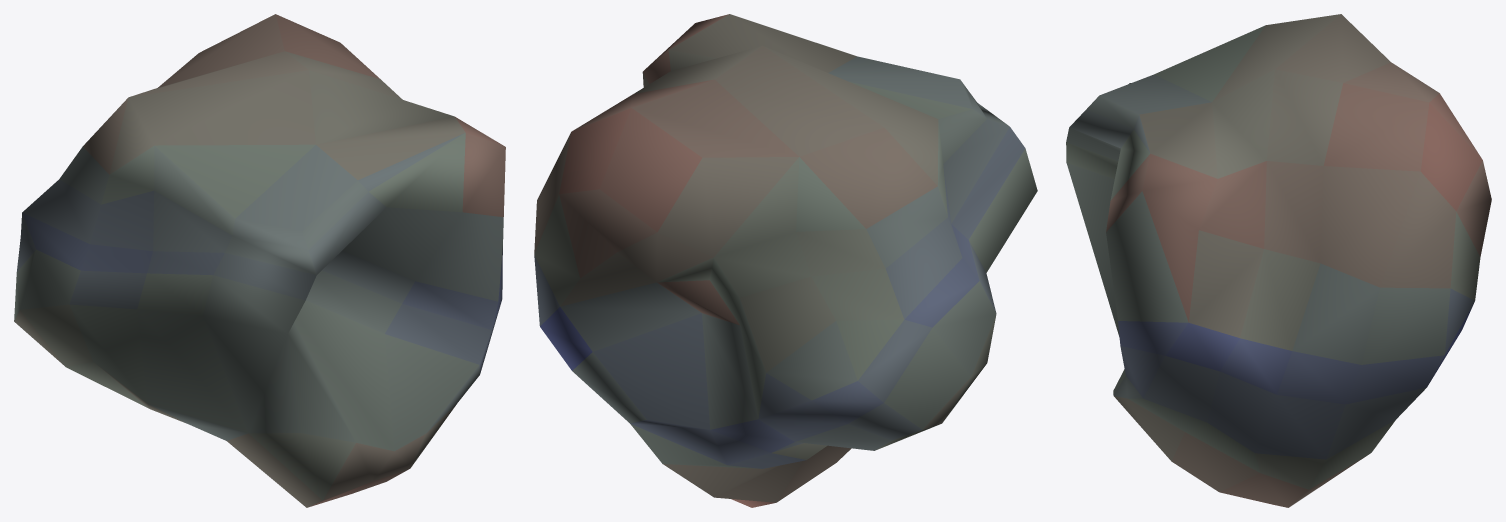
File: Asteroid_01_LP.fbx
3 renders of one model, left to right at view 1: azimuth 30°, elevation 25°; view 2: azimuth 150°, elevation 25°; view 3: azimuth 270°, elevation 25°, orthographic. The views are drawn at different scales.
Parts seen in each view (by area): view 1: Asteroid_01_LP; view 2: Asteroid_01_LP; view 3: Asteroid_01_LP.
Boxes of the visible parts, x1,y1,x2,y2 form: Asteroid_01_LP: (14,14,505,507); Asteroid_01_LP: (534,14,1037,507); Asteroid_01_LP: (1066,14,1491,507).
Size of the model in its own units: 5.13 by 5.33 by 4.78.
